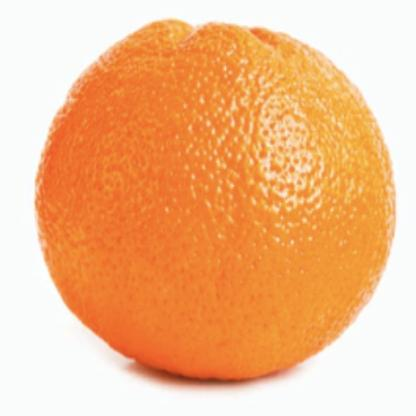fresh: (34, 21, 393, 381)
